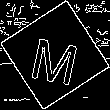M_N: (27, 25, 83, 85)
